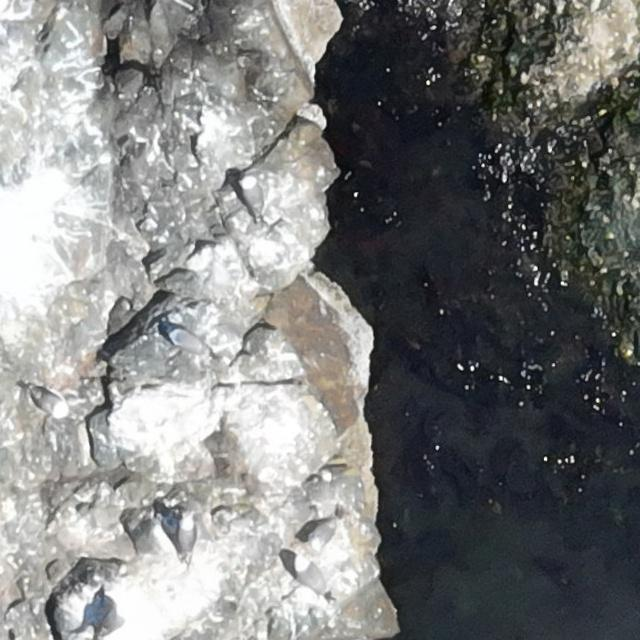umineko: (294, 556, 334, 600), (170, 326, 214, 358), (27, 383, 67, 414), (310, 512, 341, 552), (100, 602, 131, 636), (241, 180, 260, 213), (179, 520, 195, 555)
